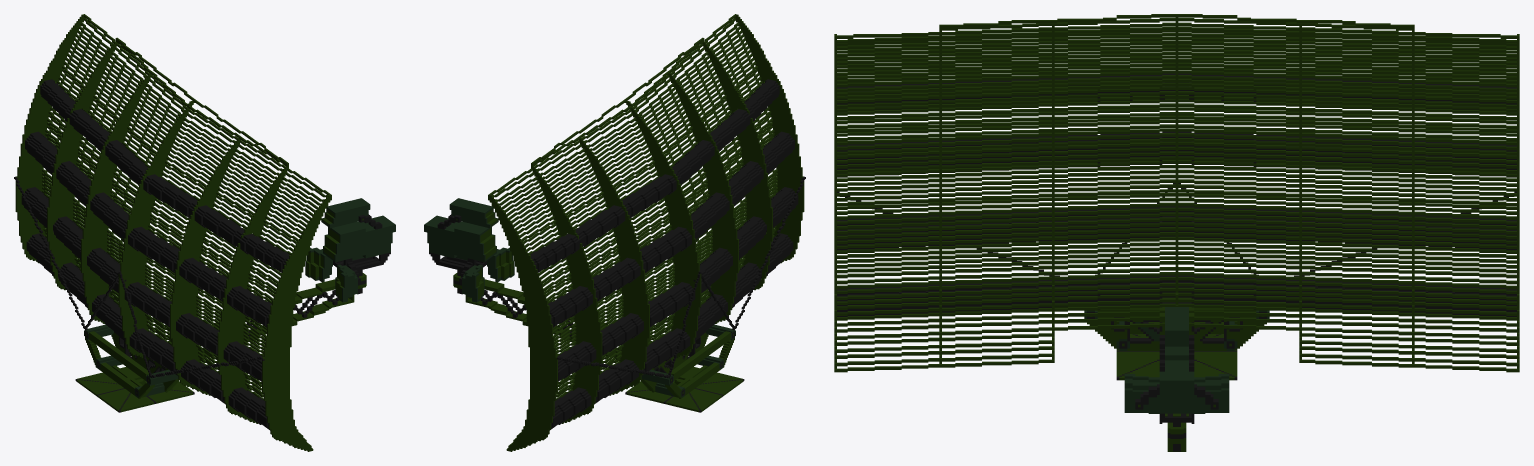
3 renders of one model, left to right at view 1: azimuth 30°, elevation 25°; view 2: azimuth 150°, elevation 25°; view 3: azimuth 270°, elevation 25°, orthographic. The views are drawn at different scales.
Visible parts, largest first — view 1: Object_2, Object_3; view 2: Object_2, Object_3; view 3: Object_2, Object_3.
Part boxes in pixels (x1=…): Object_2: x1=14, y1=14, x2=395, y2=451; Object_3: x1=16, y1=15, x2=395, y2=451; Object_2: x1=424, y1=14, x2=805, y2=451; Object_3: x1=671, y1=15, x2=803, y2=323; Object_2: x1=834, y1=14, x2=1519, y2=429; Object_3: x1=834, y1=20, x2=1519, y2=451.
Bounding box in the file's own units: 17.4 × 15.6 × 25.5.
1 material, 1 textured.
